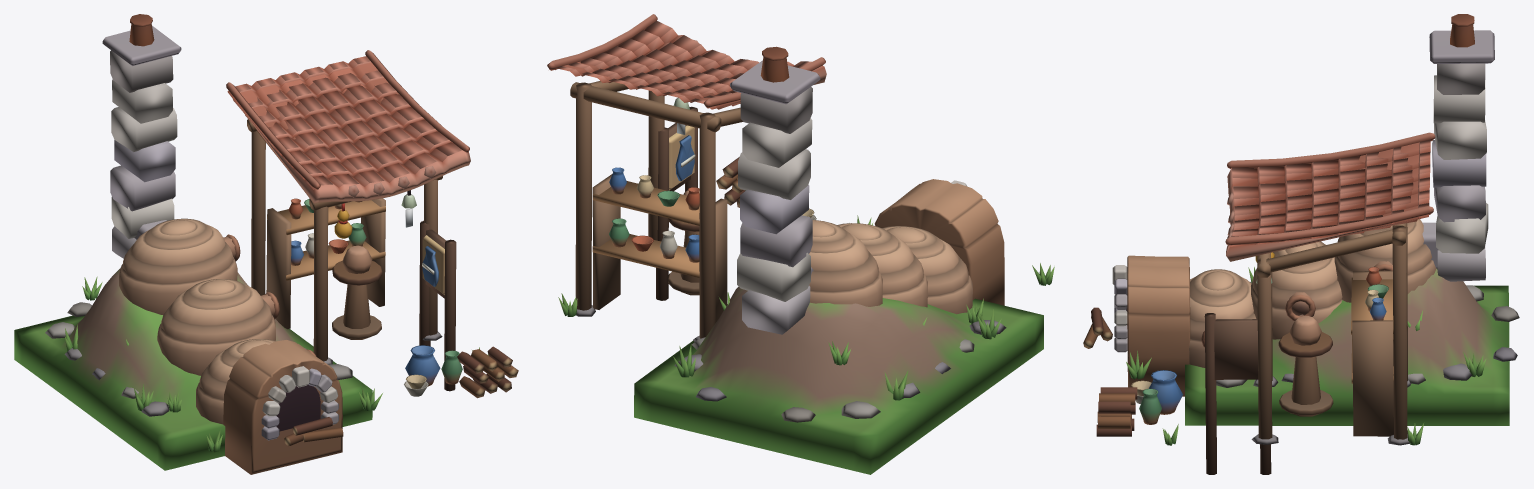
File: kiln-1.glb
The picture shows the model from 3 angles, left to right: view 1: azimuth 30°, elevation 25°; view 2: azimuth 150°, elevation 25°; view 3: azimuth 270°, elevation 25°; orthographic projection. The views are drawn at different scales.
Parts seen in each view (by area): view 1: kiln-1; view 2: kiln-1; view 3: kiln-1.
Boxes of the visible parts, x1=… form: kiln-1: x1=14, y1=14, x2=518, y2=474; kiln-1: x1=547, y1=14, x2=1054, y2=474; kiln-1: x1=1083, y1=14, x2=1519, y2=474.
Bounding box in the file's own units: 2.98 × 2.89 × 3.23.
